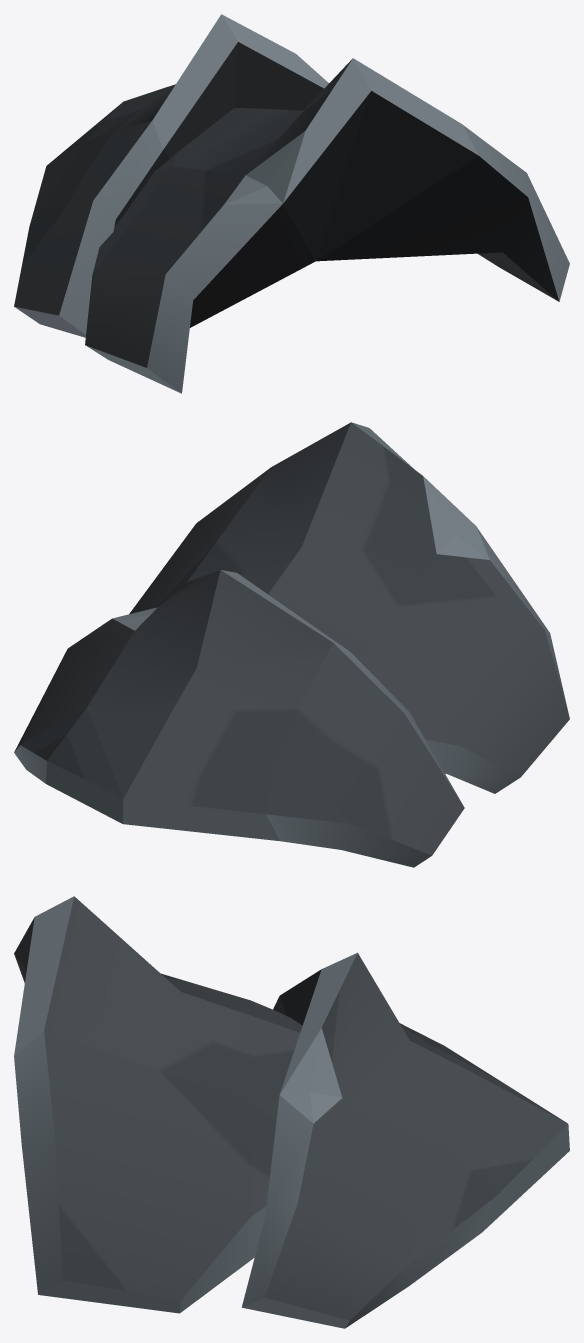
The model's file is SM_Chr_Attach_Armour_Dark_Back_Medium_01.fbx.
The picture shows the model from 3 angles, top to bottom: view 1: azimuth 30°, elevation 25°; view 2: azimuth 150°, elevation 25°; view 3: azimuth 270°, elevation 25°; orthographic projection. The views are drawn at different scales.
Parts seen in each view (by area): view 1: SM_Chr_Attach_Armour_Dark_Back_Medium_01; view 2: SM_Chr_Attach_Armour_Dark_Back_Medium_01; view 3: SM_Chr_Attach_Armour_Dark_Back_Medium_01.
Boxes of the visible parts, left/top/right/bottom form: SM_Chr_Attach_Armour_Dark_Back_Medium_01: left=14, top=14, right=569, bottom=393; SM_Chr_Attach_Armour_Dark_Back_Medium_01: left=14, top=422, right=569, bottom=867; SM_Chr_Attach_Armour_Dark_Back_Medium_01: left=14, top=896, right=569, bottom=1328.
Size of the model in its own units: 23.4 by 15.93 by 23.92.
